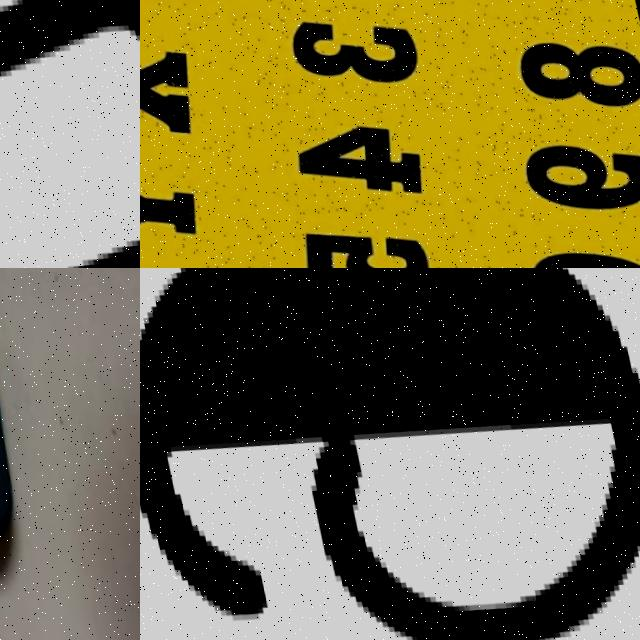0: (494, 213, 640, 268)
3: (274, 0, 428, 100)
4: (258, 83, 441, 214)
5: (266, 196, 446, 268)
6: (140, 268, 640, 640)
8: (492, 4, 640, 118)
9: (493, 104, 640, 231)
N: (0, 0, 140, 268)
